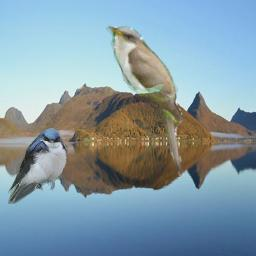Cuckoo: (103, 22, 187, 179)
Swallow: (6, 127, 68, 204)
